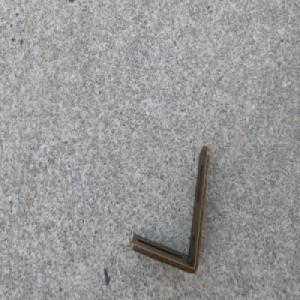MetalPart: (129, 144, 210, 275)
